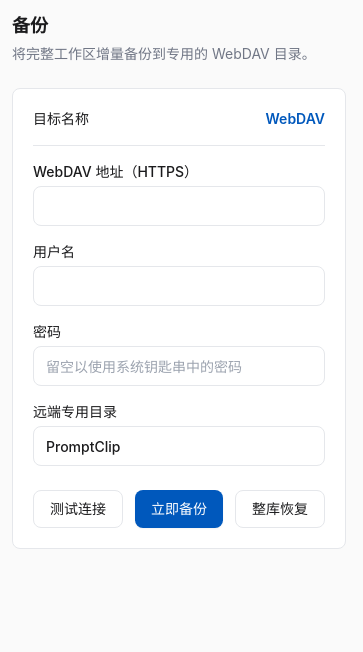
Scenario: BackupSettings › shows a clear in-progress state while backing up
Click the button "立即备份" at (179, 509), box x1=135 y1=490 x2=223 y2=528
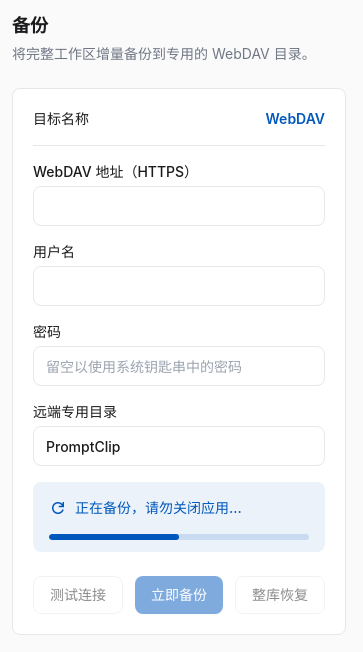
Expected: the message shows "正在备份", x1=75 y1=499 x2=242 y2=516
Expected: the progress indicator is shown, x1=49 y1=534 x2=309 y2=540
